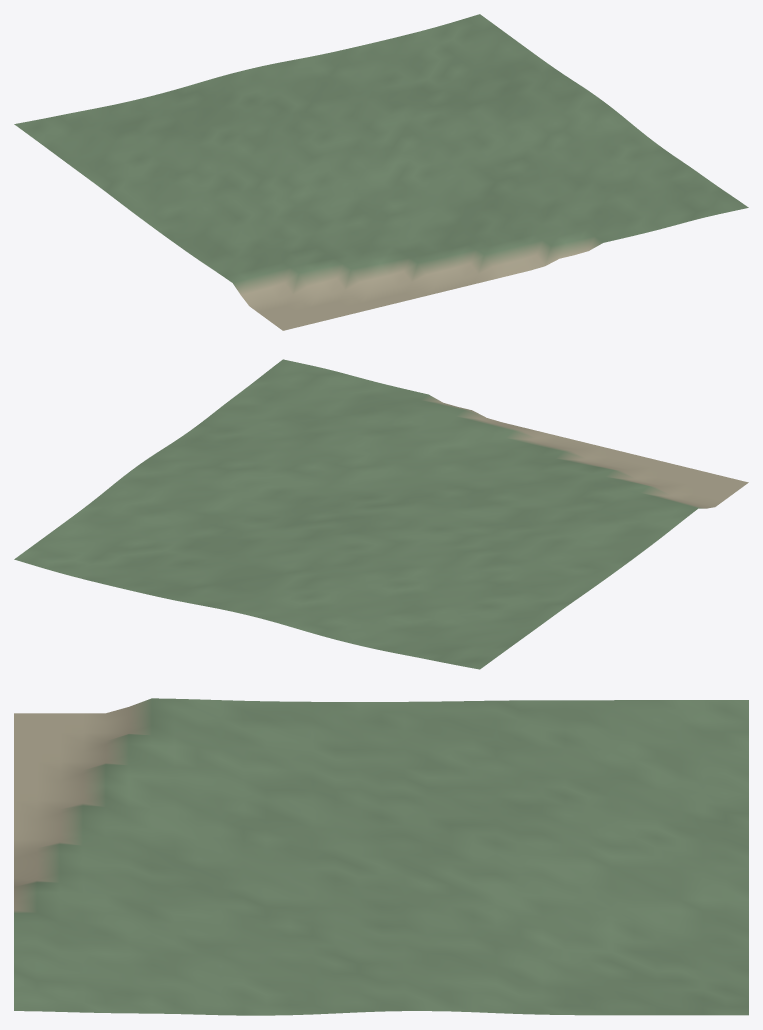
3 views of the same model, one above another, from view 1: azimuth 30°, elevation 25°; view 2: azimuth 150°, elevation 25°; view 3: azimuth 270°, elevation 25° (orthographic). The views are drawn at different scales.
Visible parts, largest first — view 1: Terrain-col; view 2: Terrain-col; view 3: Terrain-col.
Part boxes in pixels (bbox=[...]): Terrain-col: bbox=[14, 14, 748, 330]; Terrain-col: bbox=[14, 359, 748, 669]; Terrain-col: bbox=[14, 698, 748, 1015].
Size of the model in its own units: 256 by 6.8 by 256.
